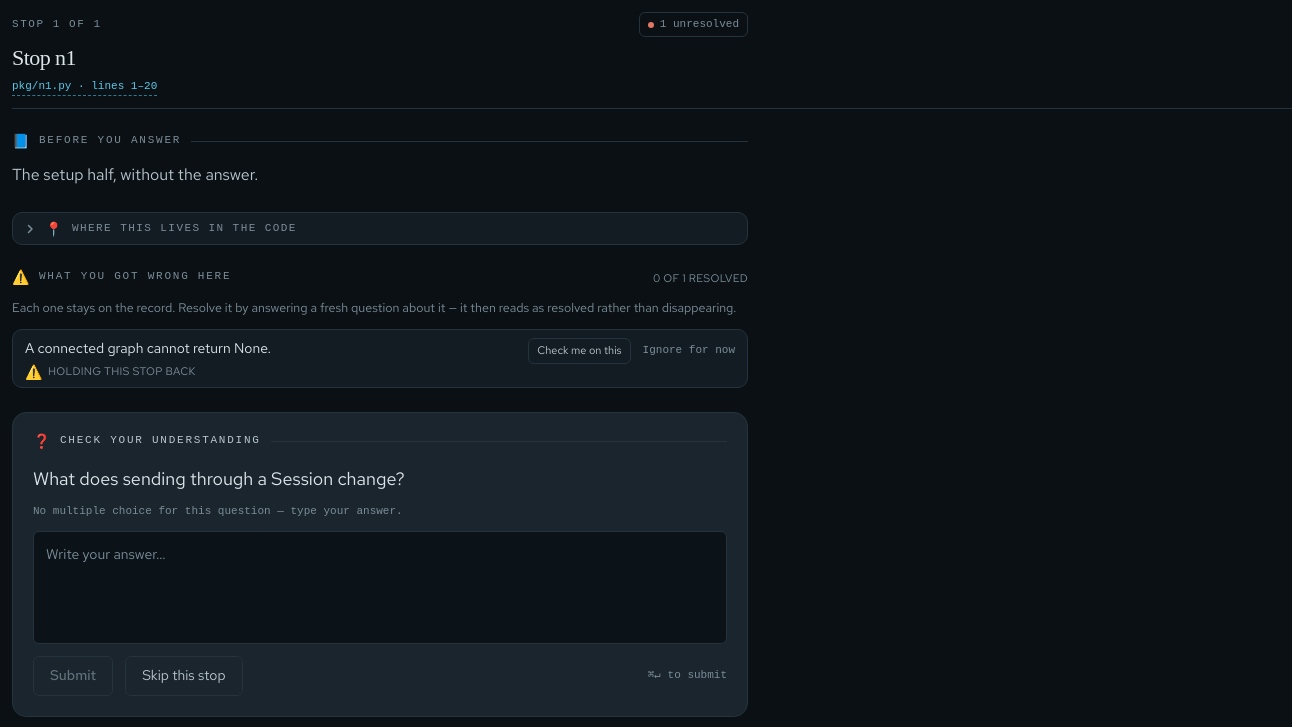
Test: requesting a verification › leaves exactly one composer and one Submit on screen
Expected: the text "What does sending through a Session change?" is shown, [33,467,405,490]
Type "A wrong answer." into the text box with placeholder "Write your answer…" at (380,588), box [33,531,727,644]
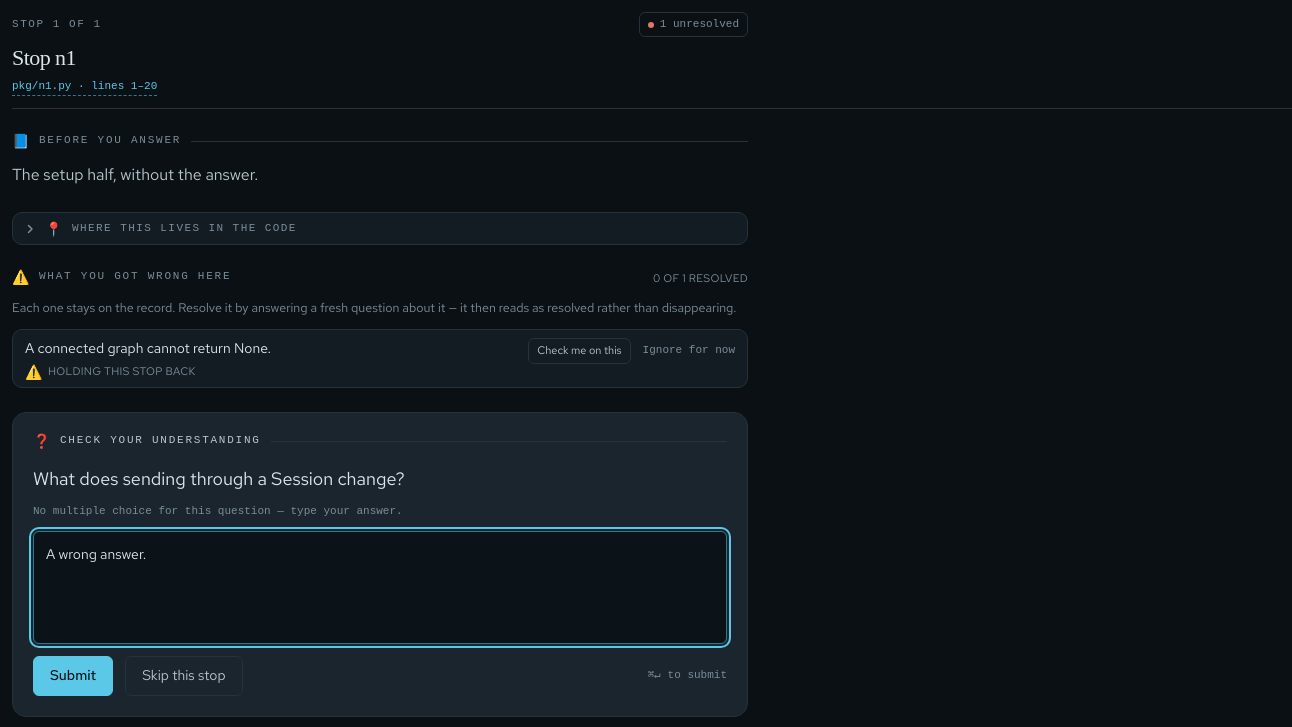
Click the button "Submit" at (73,676), box [33,656,113,696]
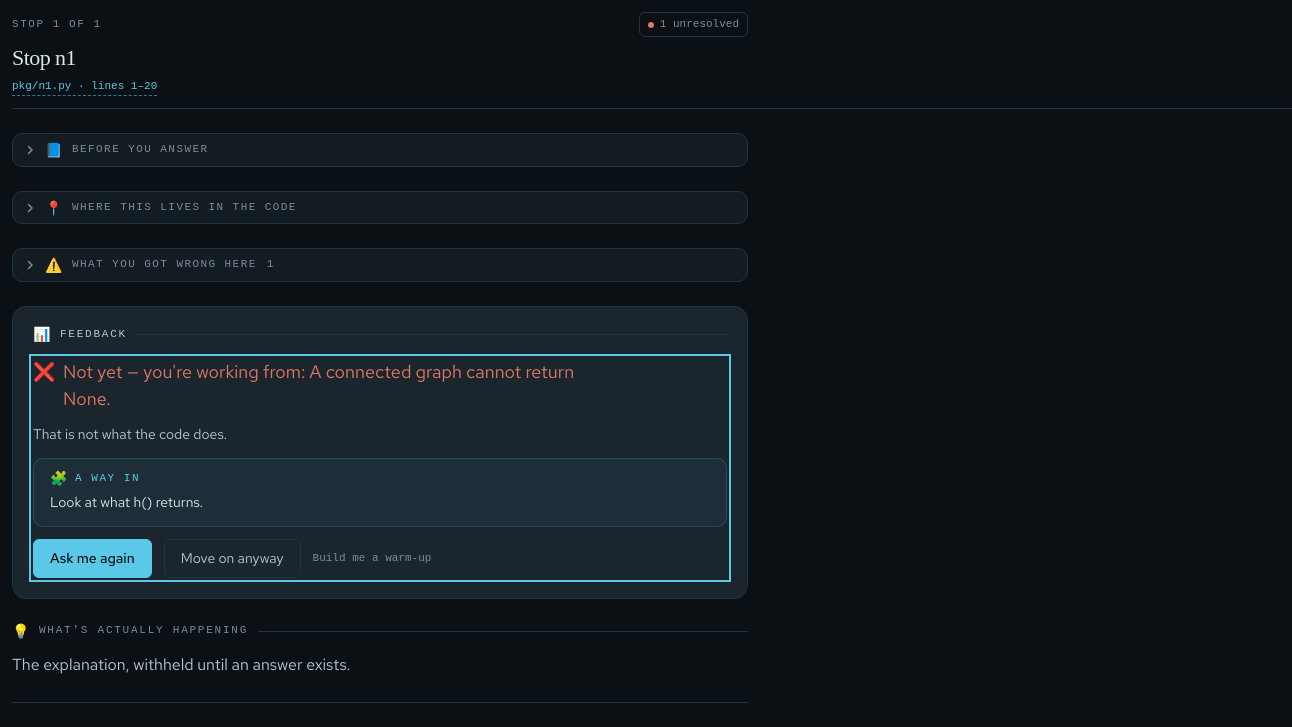
Expected: the button "Ask me again" is shown
Click the button "Ask me again" at (92,559), box [33,539,152,578]
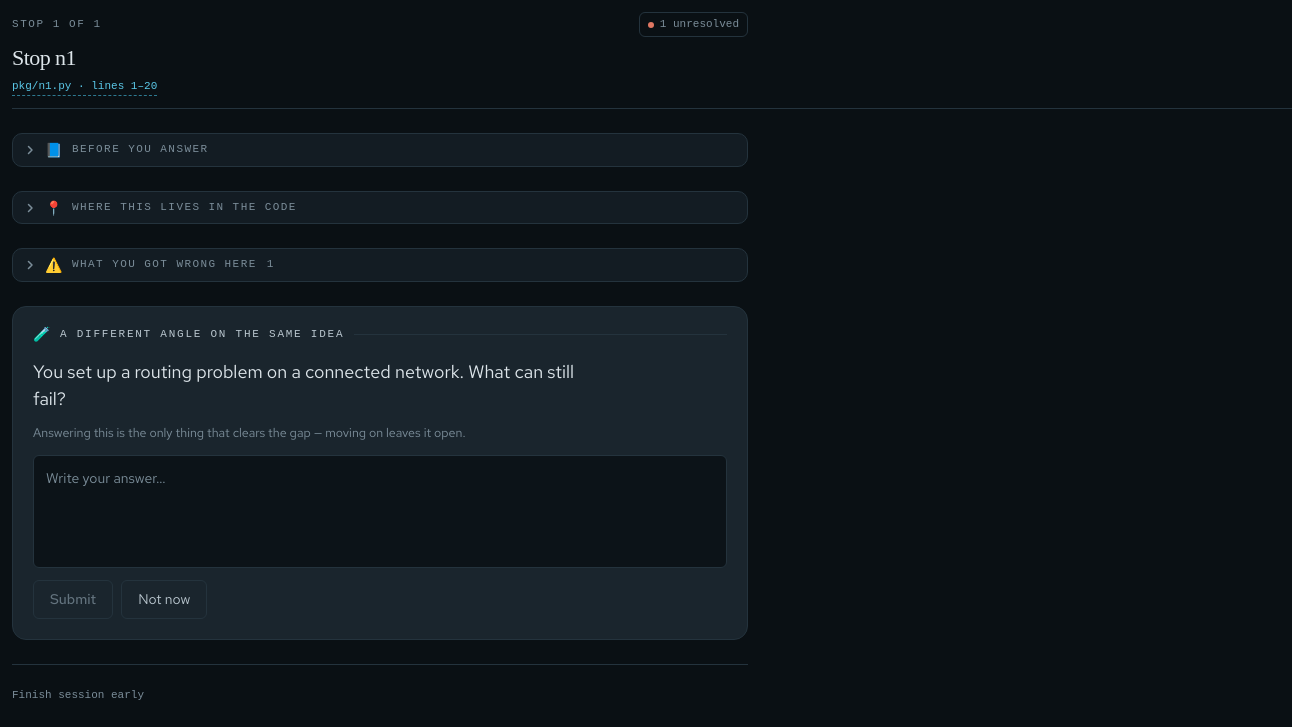
Expected: the number of buttons "Submit" is 1, [33,580,113,619]
Expected: the text "You set up a routing problem on a connected network. What can still fail?" is shown, [33,358,580,412]
Expected: the number of text boxes with placeholder "Write your answer…" is 1, [33,455,727,568]
